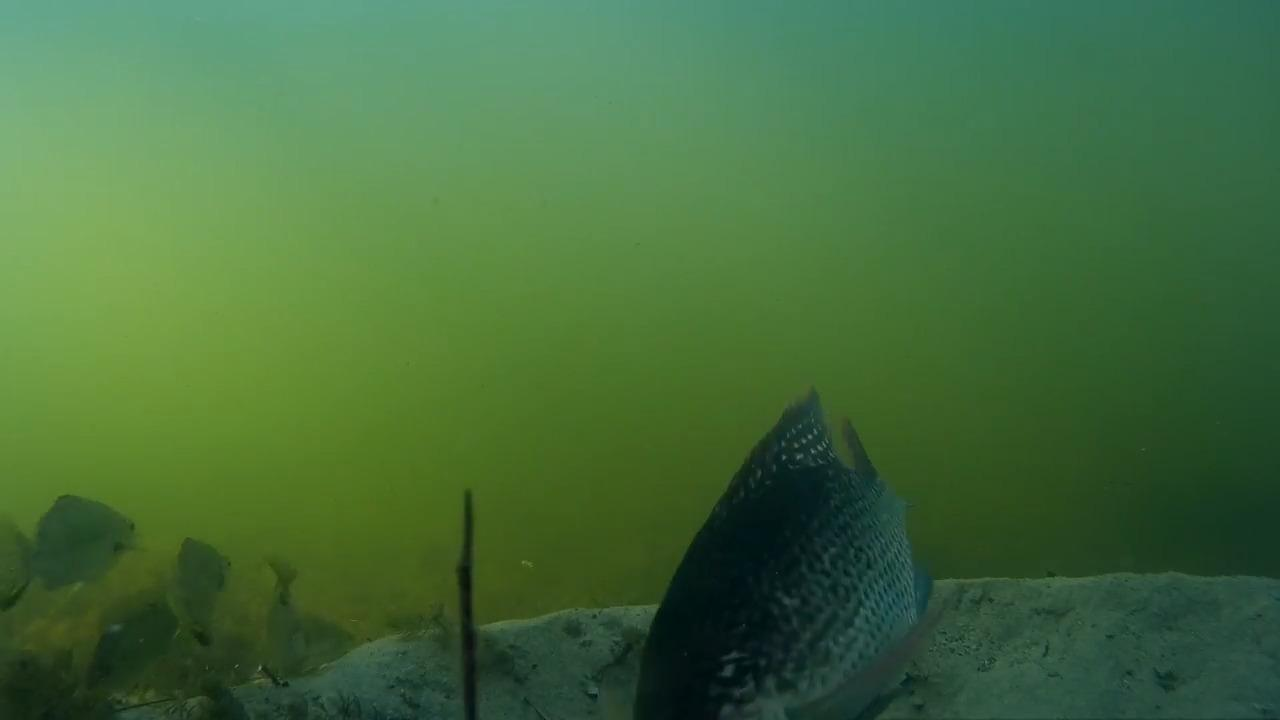Tilapia: (640, 382, 942, 720), (2, 493, 143, 631)
